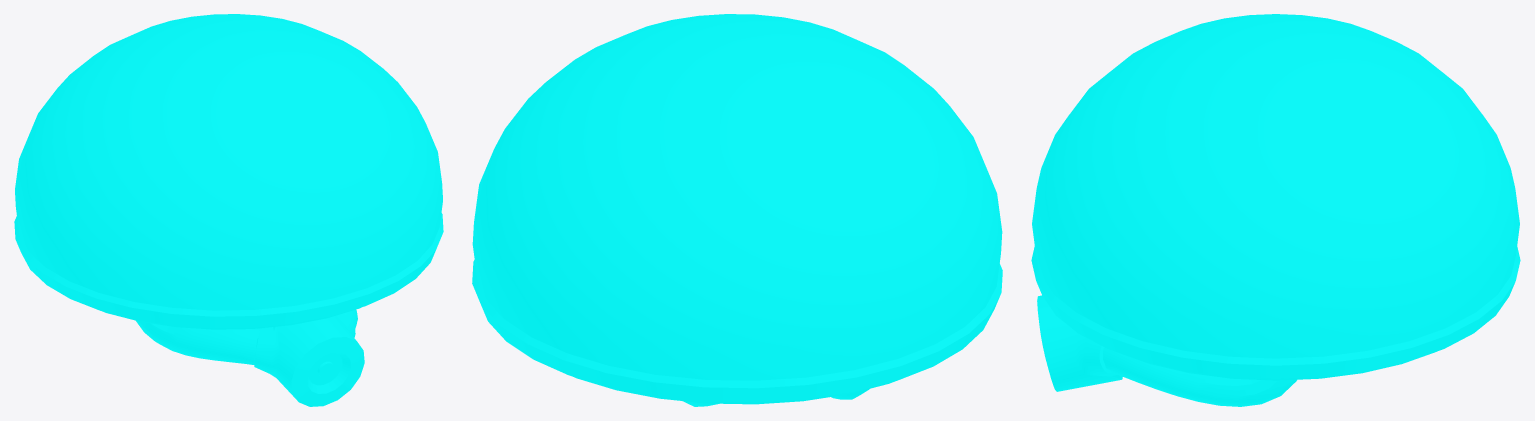
File: BossShip.fbx
3 renders of one model, left to right at view 1: azimuth 30°, elevation 25°; view 2: azimuth 150°, elevation 25°; view 3: azimuth 270°, elevation 25°, orthographic. The views are drawn at different scales.
Visible parts, largest first — view 1: ShipShield; view 2: ShipShield; view 3: ShipShield.
Boxes of the visible parts, box(x1,y1,x2,y2) form: ShipShield: box(14, 14, 443, 406); ShipShield: box(472, 14, 1002, 406); ShipShield: box(1031, 14, 1520, 406).
Bounding box in the file's own units: 430 × 328 × 421.
